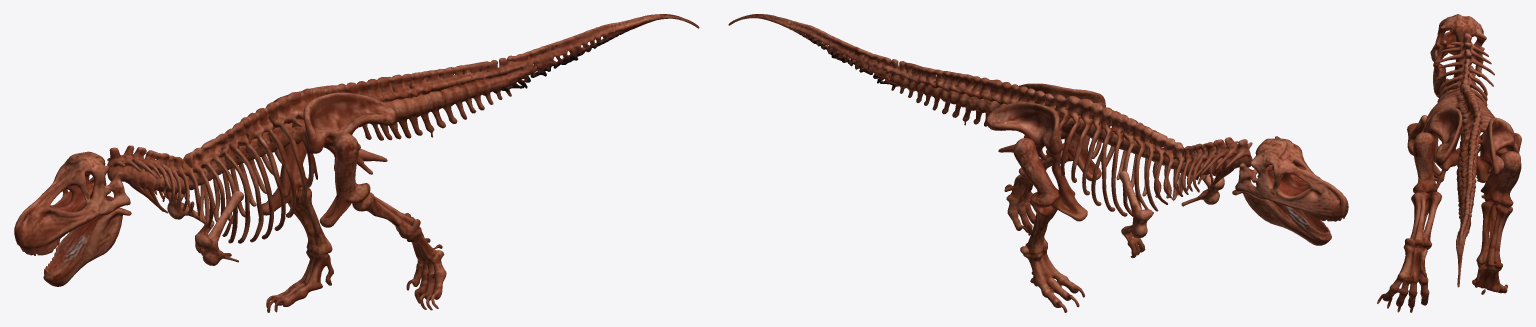
The model's file is pixal3d.glb.
3 views of the same model, side by side, from view 1: azimuth 30°, elevation 25°; view 2: azimuth 150°, elevation 25°; view 3: azimuth 270°, elevation 25° (orthographic). The views are drawn at different scales.
Parts seen in each view (by area): view 1: world; view 2: world; view 3: world.
Part boxes in pixels (bbox=[...]): world: bbox=[14, 14, 699, 312]; world: bbox=[728, 14, 1348, 312]; world: bbox=[1377, 14, 1521, 312].
Size of the model in its own units: 0.9826 by 0.3091 by 0.2128.
1 material, 1 textured.
